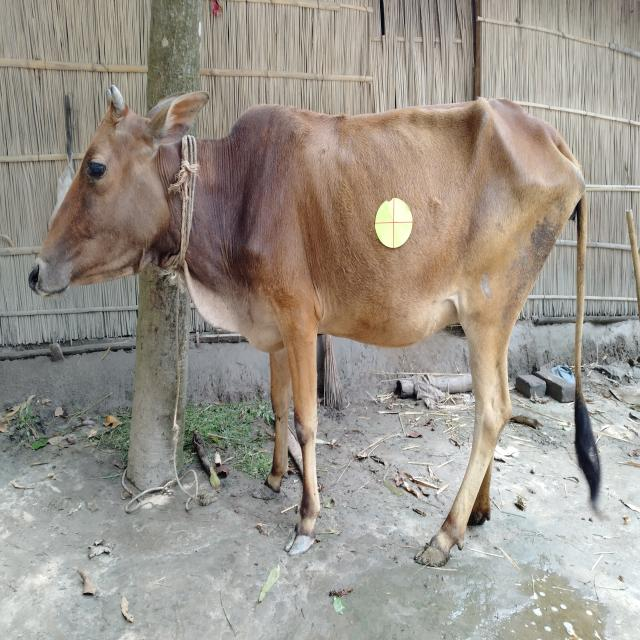badan_sapi: (236, 118, 586, 349)
sapi: (23, 76, 612, 590)
